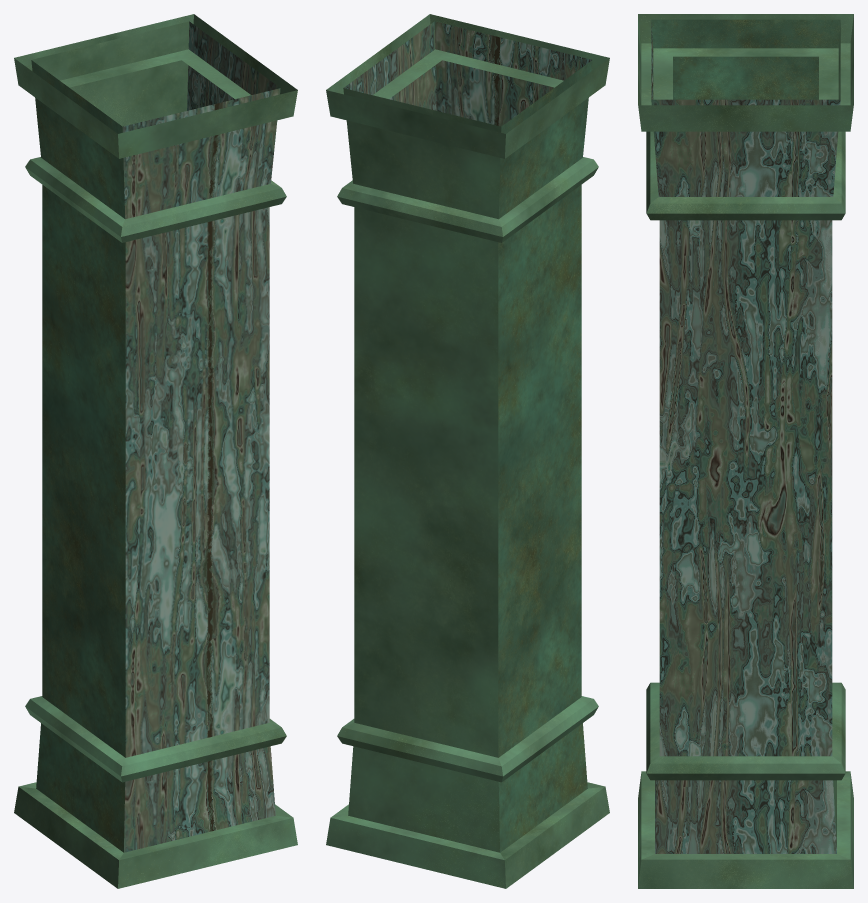
The model's file is Pillar_MidShip.FBX.
3 renders of one model, left to right at view 1: azimuth 30°, elevation 25°; view 2: azimuth 150°, elevation 25°; view 3: azimuth 270°, elevation 25°, orthographic. The views are drawn at different scales.
Parts seen in each view (by area): view 1: Object012; view 2: Object012; view 3: Object012.
Part boxes in pixels (x1=…): Object012: x1=14, y1=14, x2=297, y2=888; Object012: x1=326, y1=14, x2=609, y2=888; Object012: x1=638, y1=14, x2=853, y2=888.
Size of the model in its own units: 74.87 by 300 by 74.87.
